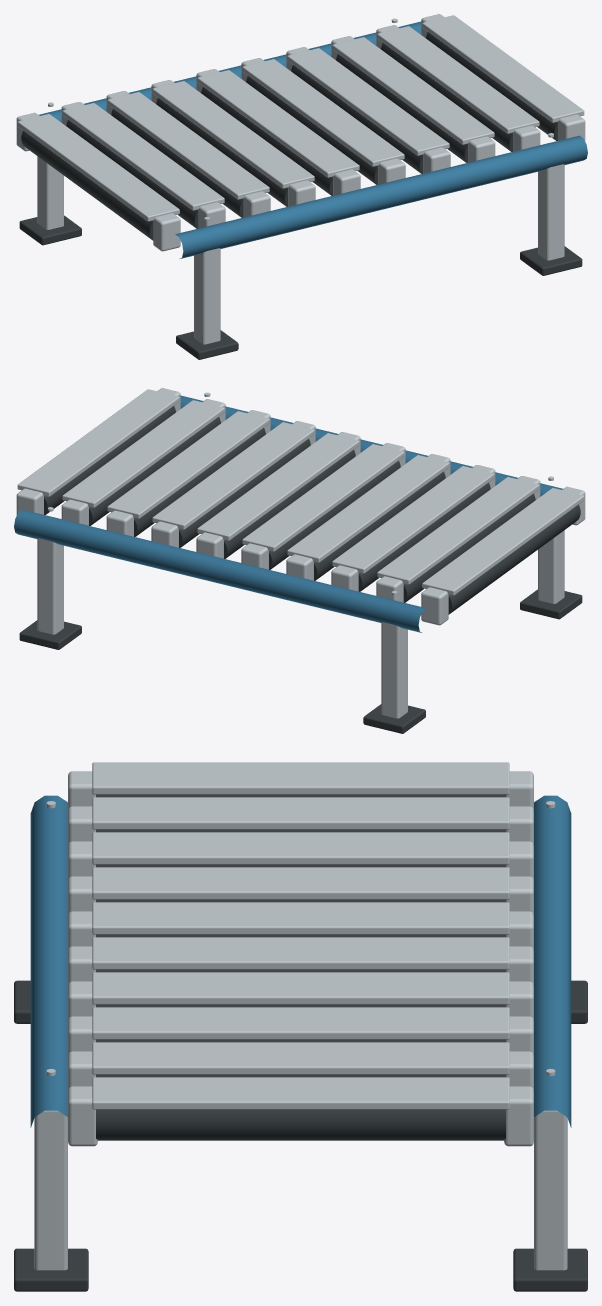
File: recycling-centre-and-material-sorting-apron-feeder-e5b6c067__31106.glb
The picture shows the model from 3 angles, top to bottom: view 1: azimuth 30°, elevation 25°; view 2: azimuth 150°, elevation 25°; view 3: azimuth 270°, elevation 25°; orthographic projection. The views are drawn at different scales.
Parts seen in each view (by area): view 1: apron-feeder; view 2: apron-feeder; view 3: apron-feeder.
Part boxes in pixels (<box>): apron-feeder: <box>16,14,587,359</box>; apron-feeder: <box>14,388,585,733</box>; apron-feeder: <box>14,762,587,1291</box>.
Bounding box in the file's own units: 2.16 × 0.625 × 1.54.
